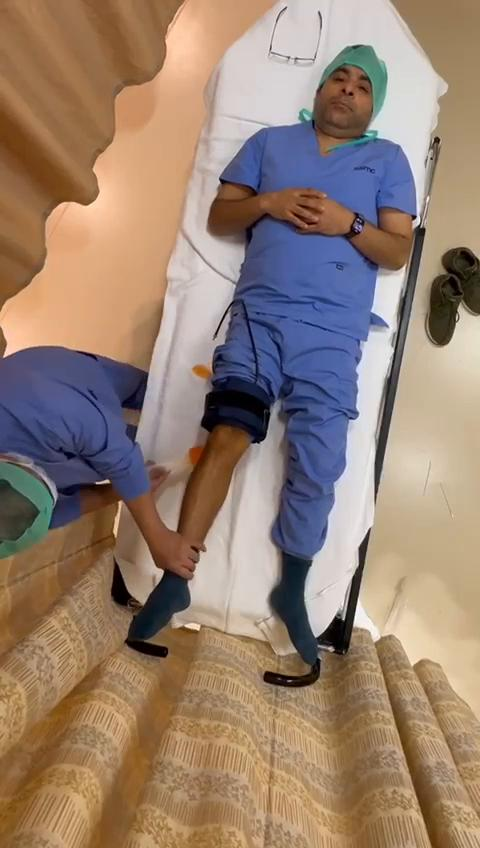patient: (179, 45, 416, 675)
prepstick: (159, 447, 203, 487)
tourniquet: (202, 378, 272, 442)
